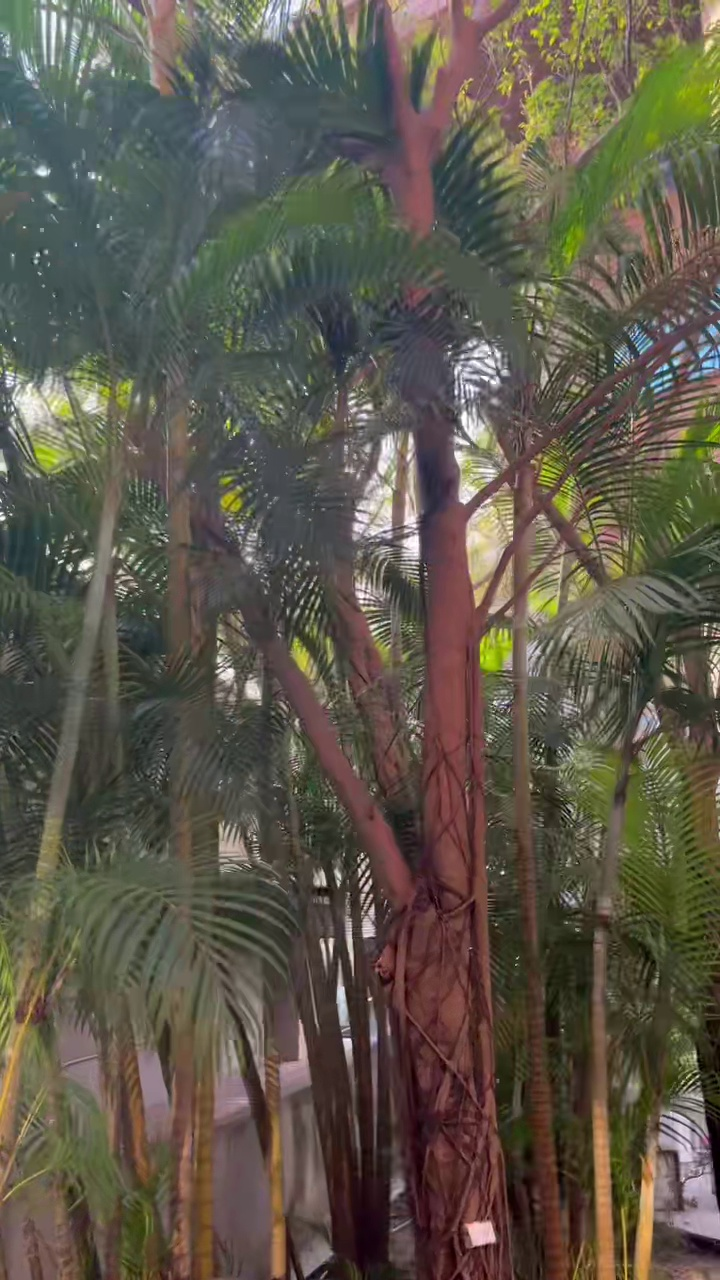Ficus benjamina: (243, 0, 515, 1279)
